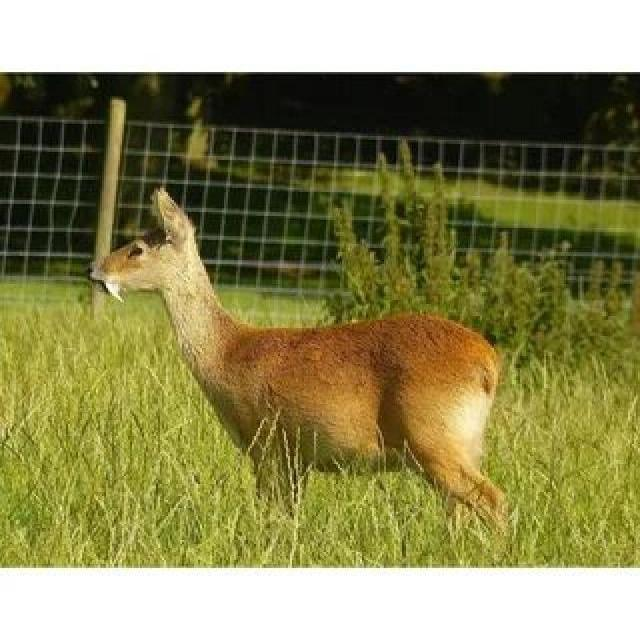deer: (77, 184, 546, 556)
